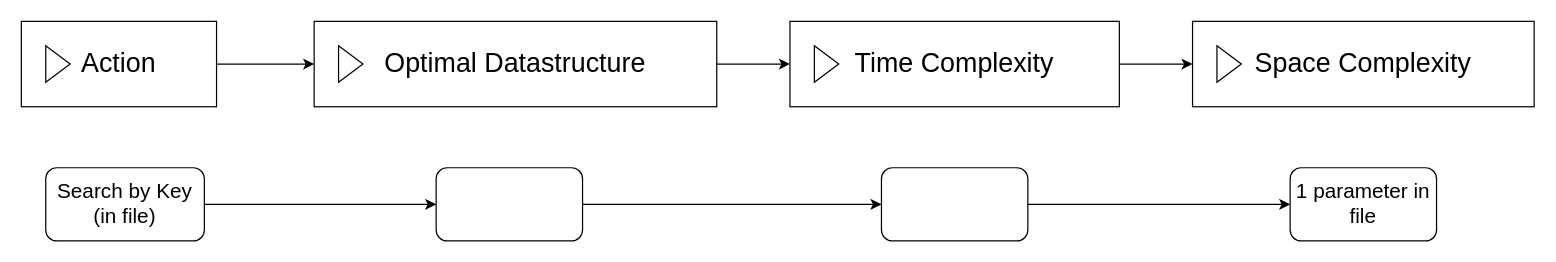
The diagram is 1556 pixels wide and 262 high, and some of its shapes have lost their labels. The shapes that lost their labels are listed below. From the top down, each one's centre as x and y in pixels, then its label:
(509,204): Hash table
(954,204): O(1)
